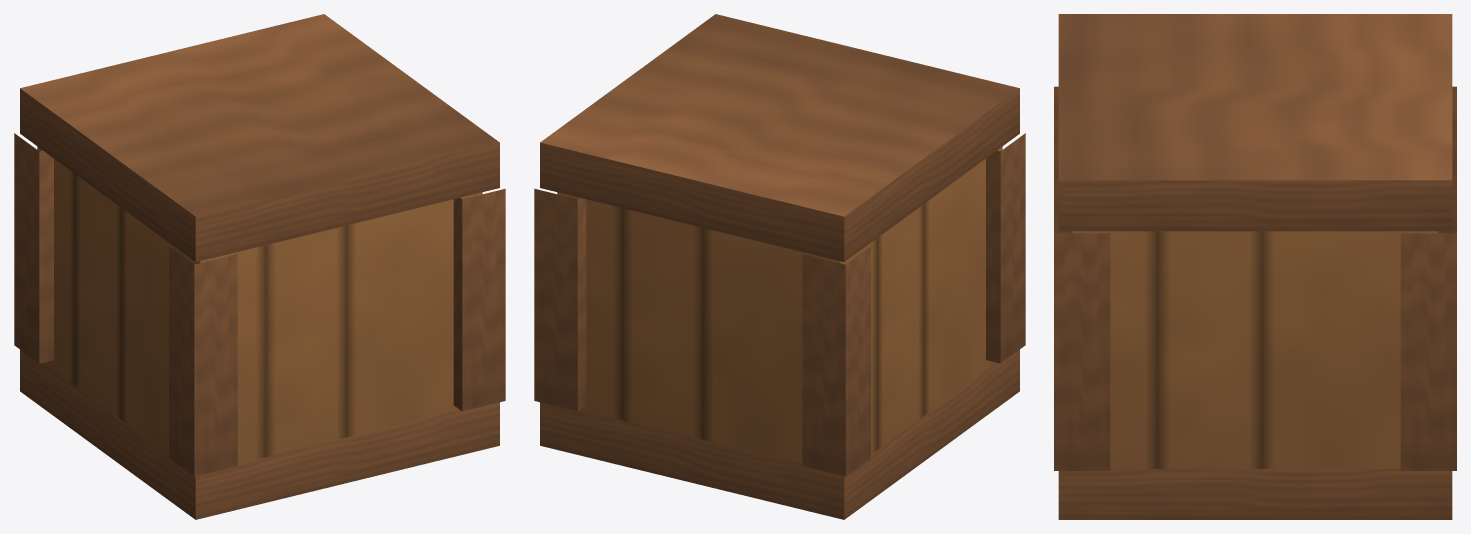
Rendered from prop_crate_01.glb.
3 renders of one model, left to right at view 1: azimuth 30°, elevation 25°; view 2: azimuth 150°, elevation 25°; view 3: azimuth 270°, elevation 25°, orthographic. The views are drawn at different scales.
Visible parts, largest first — view 1: prop_crate_01; view 2: prop_crate_01; view 3: prop_crate_01.
Boxes of the visible parts, box(x1,y1,x2,y2) form: prop_crate_01: box(14, 14, 505, 519); prop_crate_01: box(534, 14, 1025, 519); prop_crate_01: box(1054, 14, 1456, 519).
Bounding box in the file's own units: 0.86 × 0.8 × 0.86.
Materials: 1 (1 with a texture image).
